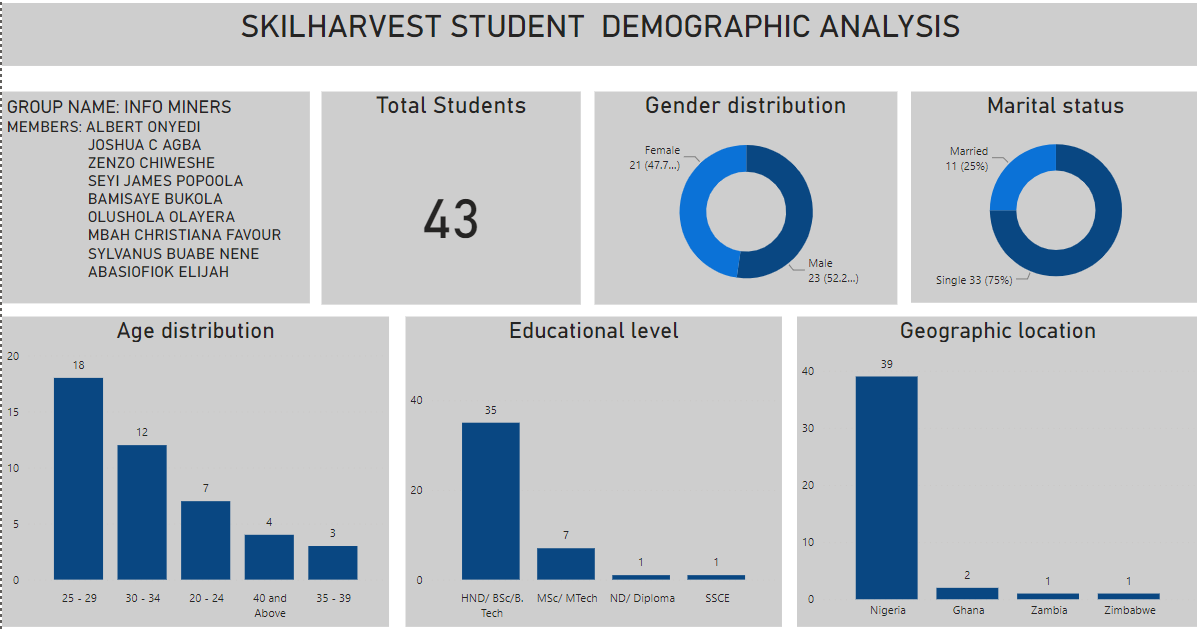

What the dashboard file says about the page in this screenshot:
{"tool":"powerbi","page":{"name":"Page 1","canvas":[1280,714],"ordinal":0},"visuals":[{"type":"card","title":"Total Students","fields":{"Values":["SkilHarvest ClassData (Responses) - Form Responses 1.Names"]},"box":[341.5,129.9,277.4,227.7],"z":0},{"type":"donutChart","title":"Gender distribution","fields":{"Y":["SkilHarvest ClassData (Responses) - Form Responses 1.Gender"],"Category":["SkilHarvest ClassData (Responses) - Form Responses 1.Gender"]},"box":[633.3,129.9,323.9,227.7],"z":1000},{"type":"clusteredColumnChart","title":"Geographic location","fields":{"Category":["SkilHarvest ClassData (Responses) - Form Responses 1.Country of Residence"],"Y":["SkilHarvest ClassData (Responses) - Form Responses 1.Country of Residence"]},"box":[850.4,370.6,430,332.1],"z":2000},{"type":"donutChart","title":"Marital status","fields":{"Category":["SkilHarvest ClassData (Responses) - Form Responses 1.Marital Status"],"Y":["SkilHarvest ClassData (Responses) - Form Responses 1.Marital Status"]},"box":[971.6,129.9,309.4,226.1],"z":3000},{"type":"columnChart","title":"Educational level","fields":{"Category":["SkilHarvest ClassData (Responses) - Form Responses 1.Highest level of Education"],"Y":["SkilHarvest ClassData (Responses) - Form Responses 1.Highest level of Education"]},"box":[431.6,370.6,402.7,332.1],"z":4000},{"type":"clusteredColumnChart","title":"Age distribution","fields":{"Category":["SkilHarvest ClassData (Responses) - Form Responses 1.Age Range"],"Y":["SkilHarvest ClassData (Responses) - Form Responses 1.Age Range"]},"box":[0,370.6,414,332.1],"z":5000},{"type":"textbox","box":[0,35.3,1280.4,67.4],"z":6000},{"type":"textbox","box":[0,130.3,329.1,226.5],"z":7000}]}

Visuals, with their boxes in screenshot pixels (x1, y1, x2, y2):
"Total Students" card: [x1=386, y1=112, x2=619, y2=303]
"Gender distribution" donutChart: [x1=631, y1=112, x2=903, y2=303]
"Geographic location" clusteredColumnChart: [x1=813, y1=314, x2=1174, y2=593]
"Marital status" donutChart: [x1=915, y1=112, x2=1174, y2=302]
"Educational level" columnChart: [x1=462, y1=314, x2=800, y2=593]
"Age distribution" clusteredColumnChart: [x1=100, y1=314, x2=447, y2=593]
textbox: [x1=100, y1=33, x2=1174, y2=89]
textbox: [x1=100, y1=112, x2=376, y2=302]
